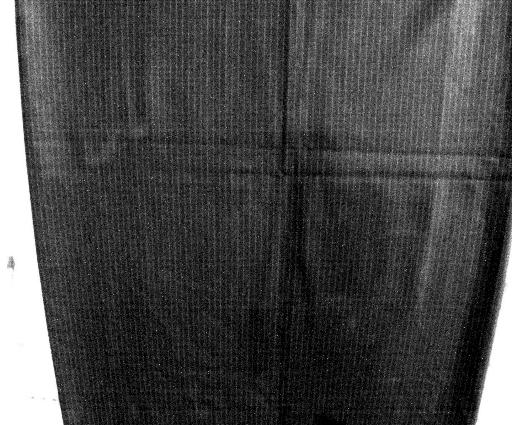fabric_perfect: (0, 3, 512, 425)
